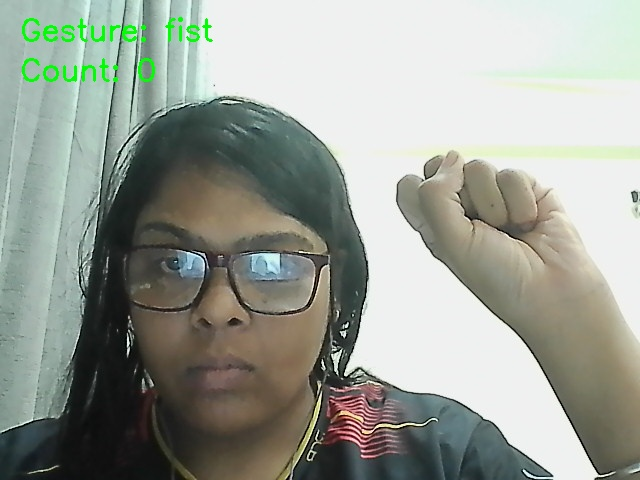fist: (375, 102, 628, 338)
